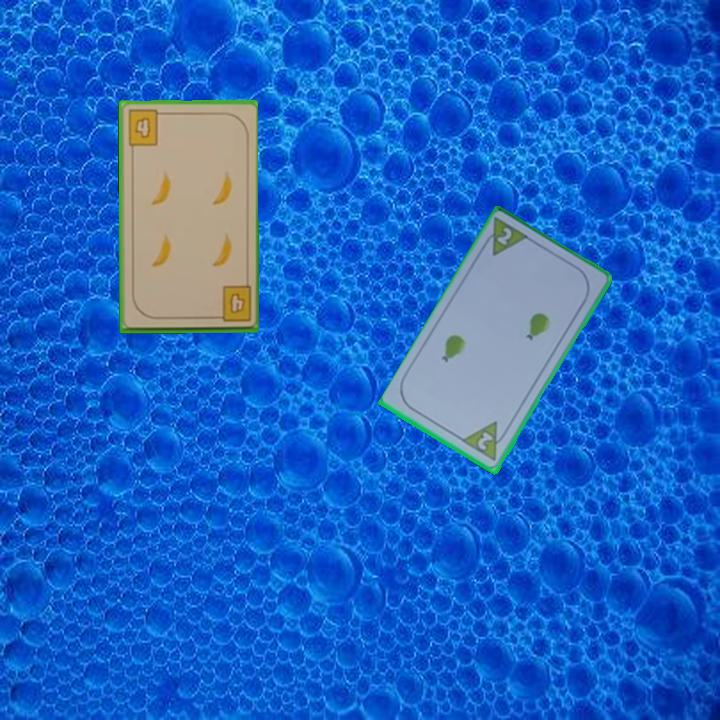2p: (460, 418, 512, 465), (493, 224, 515, 249)
4b: (209, 283, 253, 325), (124, 106, 167, 148)
